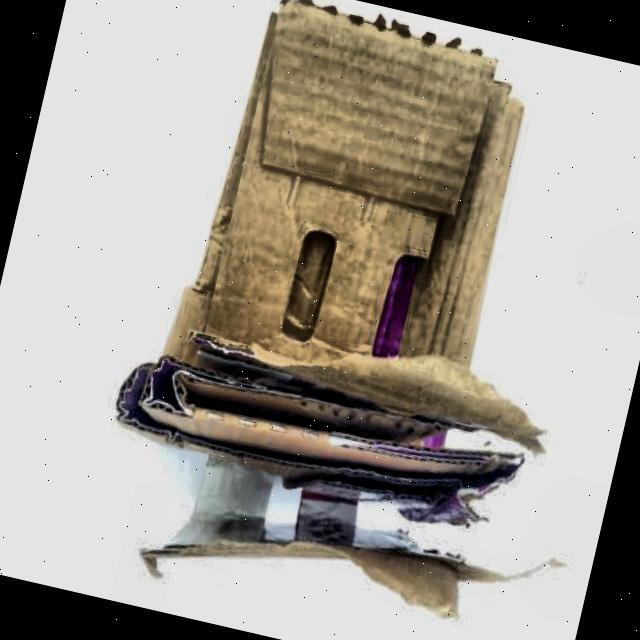cardboard: (88, 0, 618, 640)
